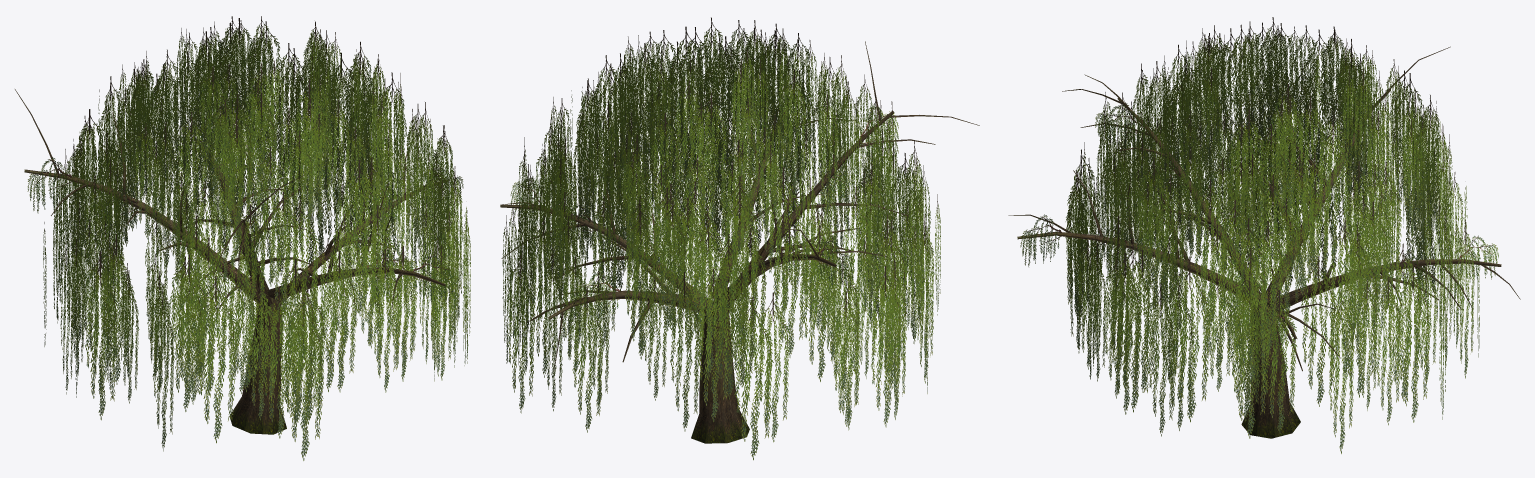
File: willow03_lod0.glb
3 renders of one model, left to right at view 1: azimuth 30°, elevation 25°; view 2: azimuth 150°, elevation 25°; view 3: azimuth 270°, elevation 25°, orthographic. The views are drawn at different scales.
Visible parts, largest first — view 1: willow03_lod0; view 2: willow03_lod0; view 3: willow03_lod0.
Part boxes in pixels (left/top/right/bottom): willow03_lod0: left=15, top=16, right=470, bottom=460; willow03_lod0: left=500, top=17, right=979, bottom=460; willow03_lod0: left=1008, top=17, right=1520, bottom=453.
Bounding box in the file's own units: 86.71 × 81.04 × 97.32.
3 materials, 3 textured.
